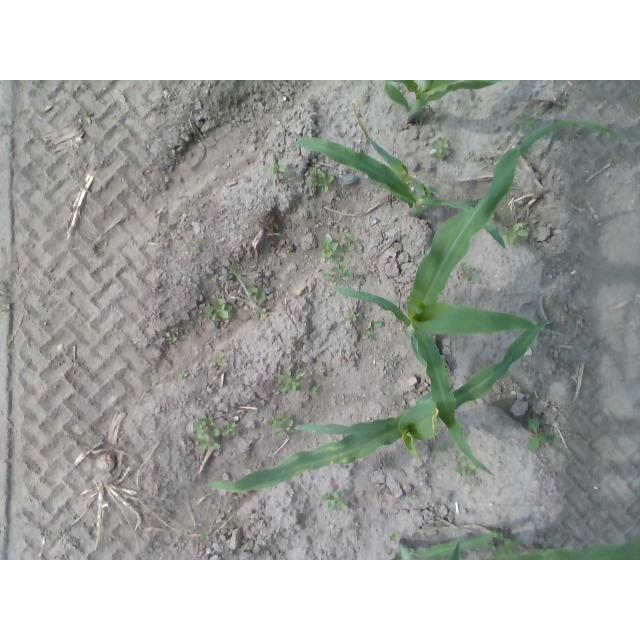Maize: (332, 118, 622, 479), (204, 315, 560, 497), (284, 137, 508, 251), (388, 533, 640, 560), (382, 81, 498, 124)
Weeds: (191, 417, 224, 455), (524, 421, 552, 454), (315, 236, 345, 264), (308, 167, 337, 194), (268, 411, 298, 437), (274, 369, 304, 393), (460, 260, 485, 288), (323, 265, 354, 287), (206, 301, 234, 325), (326, 490, 351, 514), (503, 225, 529, 248), (432, 141, 452, 163), (220, 419, 242, 438), (341, 231, 360, 251), (264, 163, 291, 177), (249, 289, 272, 304), (459, 461, 477, 479), (211, 354, 229, 367), (365, 331, 383, 344), (253, 306, 272, 318), (169, 331, 184, 345), (347, 310, 361, 323), (372, 321, 387, 332), (178, 370, 190, 380), (309, 388, 319, 399)
